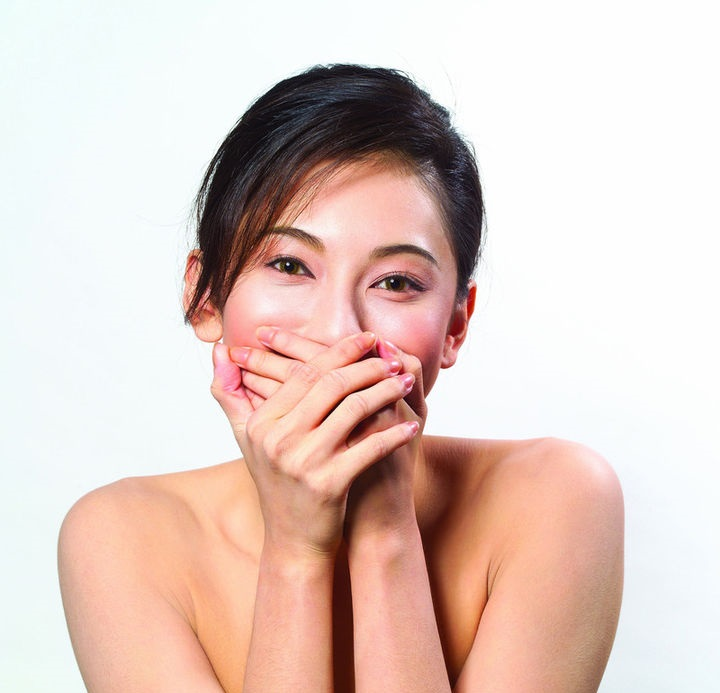face: (220, 150, 454, 462)
